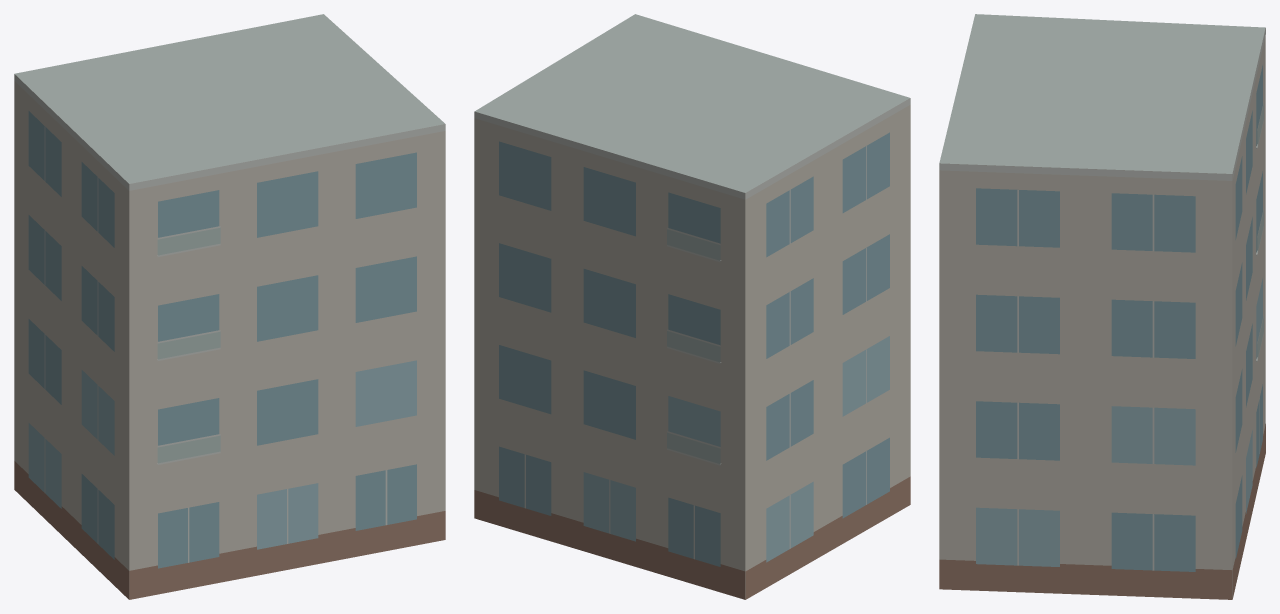
Rendered from survey-upis-33008624.glb.
3 views of the same model, side by side, from view 1: azimuth 30°, elevation 25°; view 2: azimuth 150°, elevation 25°; view 3: azimuth 270°, elevation 25° (orthographic). The views are drawn at different scales.
Parts seen in each view (by area): view 1: survey-upis-33008624.tmp; view 2: survey-upis-33008624.tmp; view 3: survey-upis-33008624.tmp.
Part boxes in pixels (x1=…): survey-upis-33008624.tmp: x1=14, y1=14, x2=445, y2=599; survey-upis-33008624.tmp: x1=474, y1=14, x2=910, y2=599; survey-upis-33008624.tmp: x1=939, y1=14, x2=1265, y2=599.
Size of the model in its own units: 11.94 by 14.8 by 10.29.
